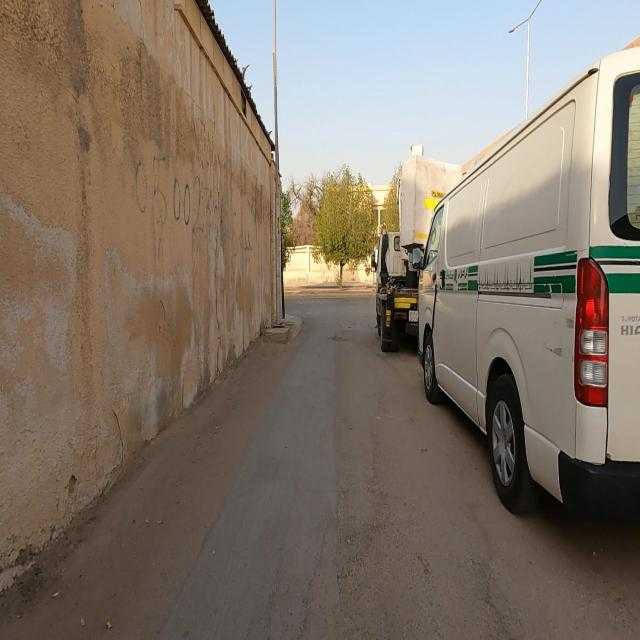Graffiti: (135, 152, 260, 266)
